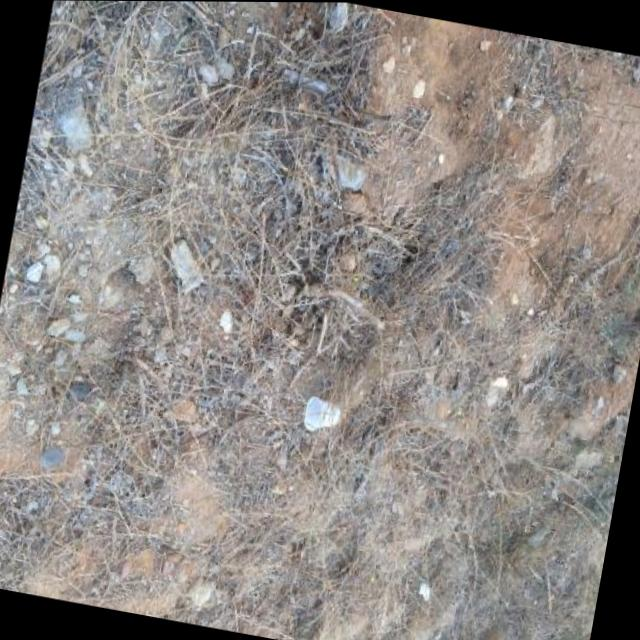cardboard: (298, 393, 341, 437)
